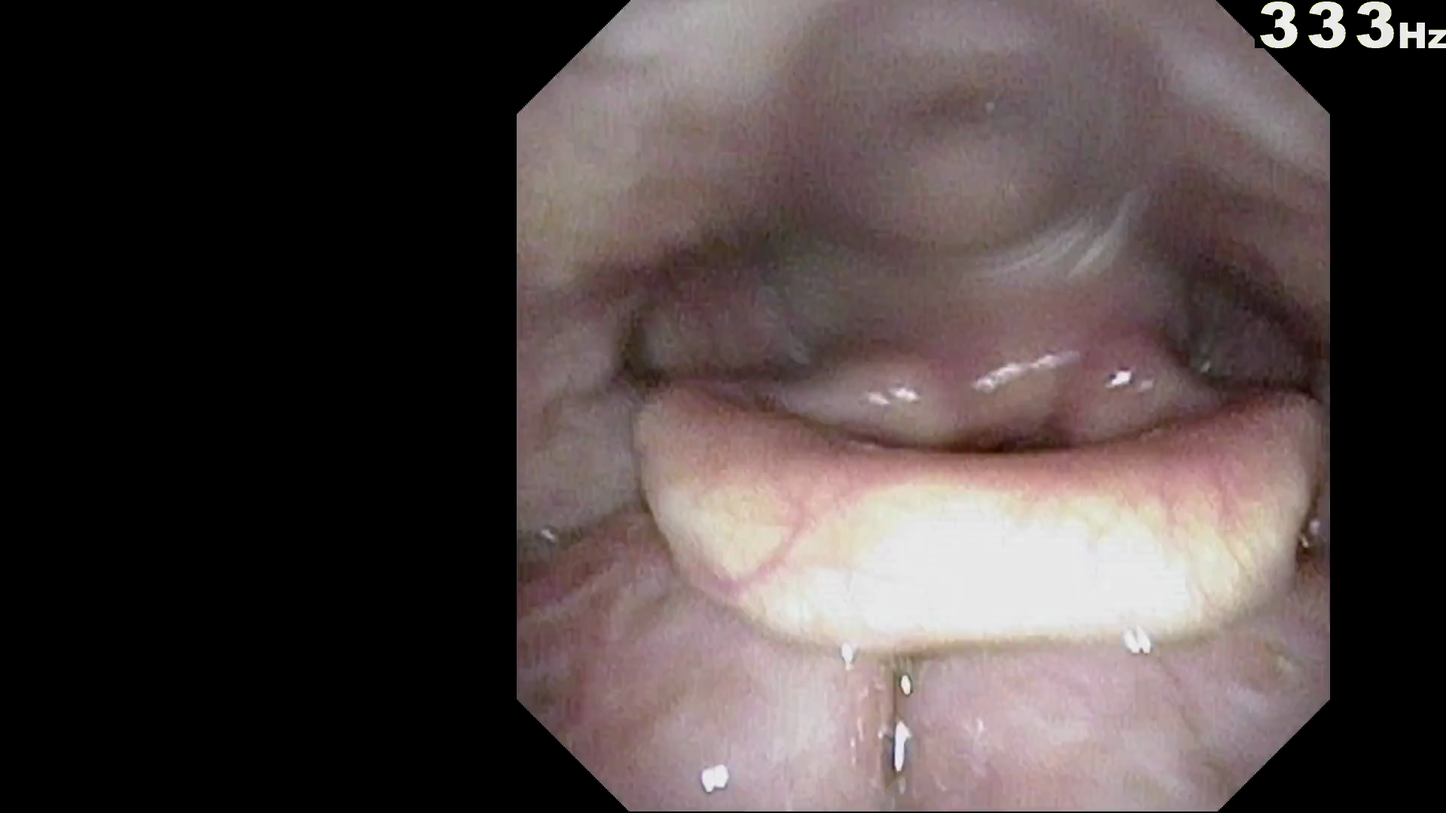epiglottis: (683, 391, 1292, 616)
